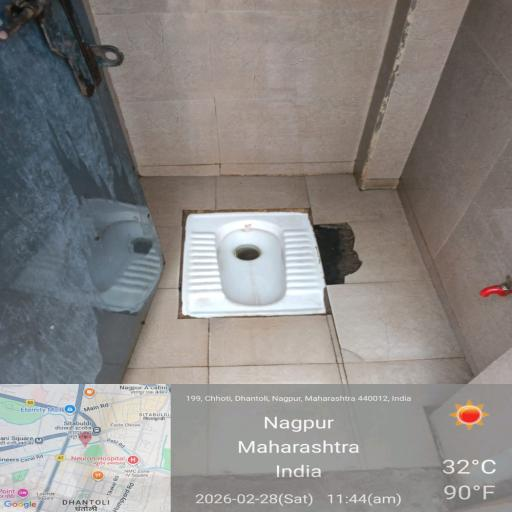clean_floor: (122, 1, 511, 166), (19, 76, 137, 382), (431, 178, 510, 303)
damage: (317, 221, 364, 284)
partial_dirty_floor: (132, 320, 484, 392), (310, 188, 436, 318)
partial_dirty_indian: (183, 212, 314, 312)
